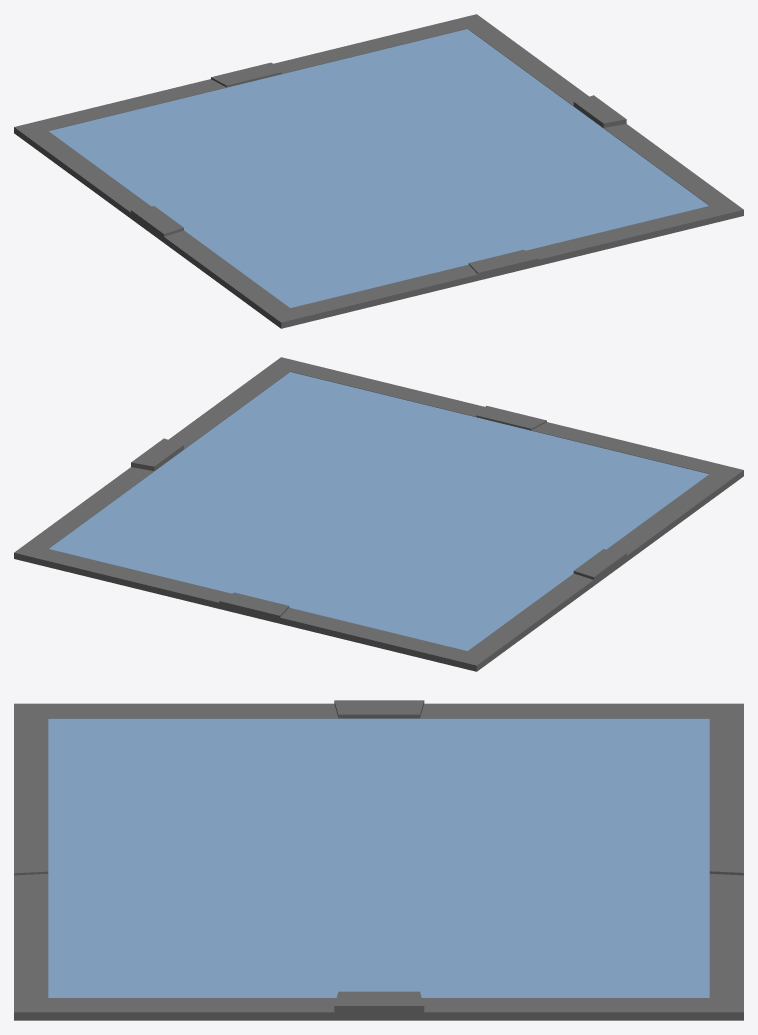
File: SolarPanel.fbx
3 views of the same model, one above another, from view 1: azimuth 30°, elevation 25°; view 2: azimuth 150°, elevation 25°; view 3: azimuth 270°, elevation 25° (orthographic). The views are drawn at different scales.
Parts seen in each view (by area): view 1: Cube; view 2: Cube; view 3: Cube.
Boxes of the visible parts, left/top/right/bottom form: Cube: left=14, top=14, right=743, bottom=328; Cube: left=14, top=357, right=743, bottom=671; Cube: left=14, top=700, right=743, bottom=1020.
Size of the model in its own units: 600 by 68.93 by 600.
